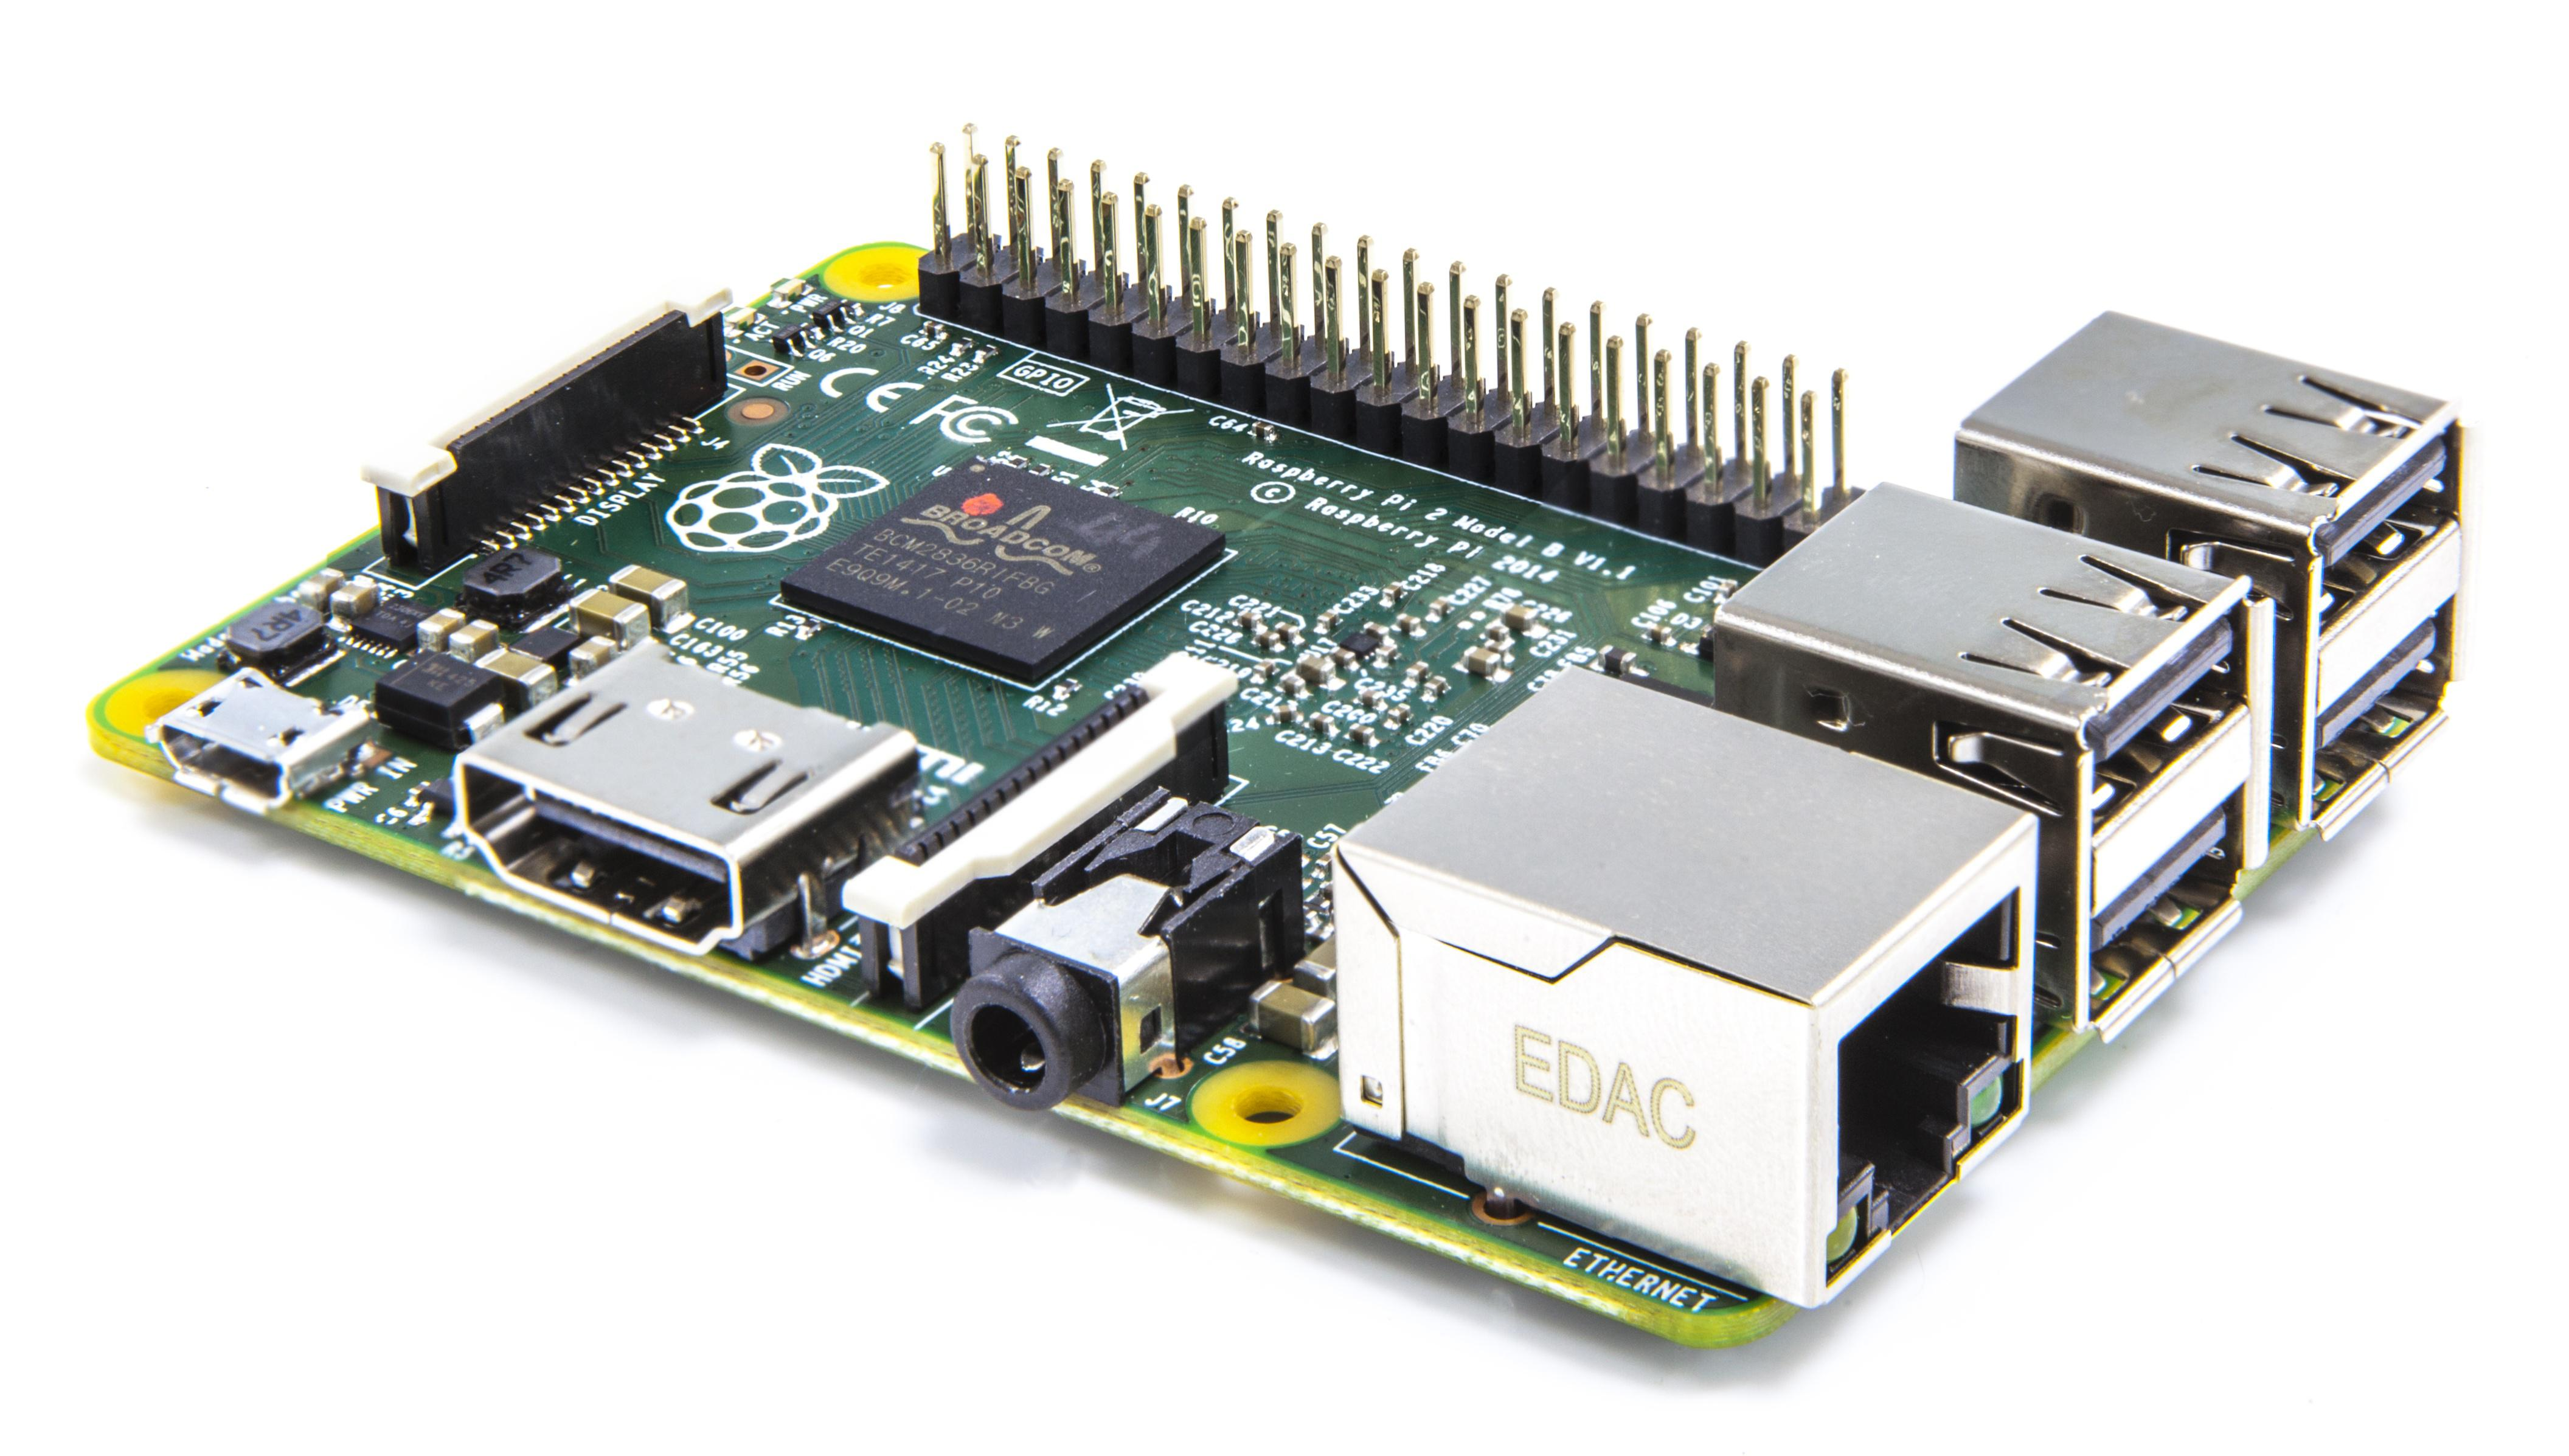audiojack: (962, 787, 1323, 1122)
bchi: (776, 452, 1228, 655)
ethernet: (1327, 653, 2041, 1276)
gpio: (900, 139, 1854, 540)
usb: (1717, 475, 2266, 1009), (1950, 321, 2470, 807)
